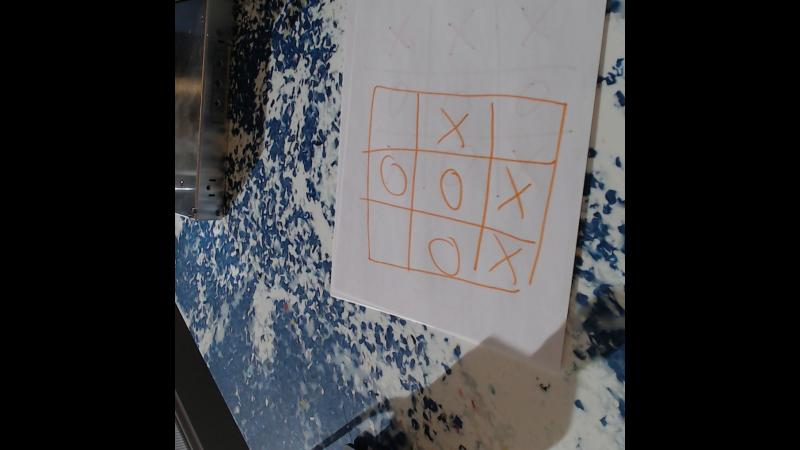O: (423, 230, 471, 278), (437, 160, 468, 214), (374, 154, 410, 200)
X: (499, 163, 540, 219), (434, 98, 475, 148), (486, 237, 528, 279)
grid: (368, 82, 560, 298)
